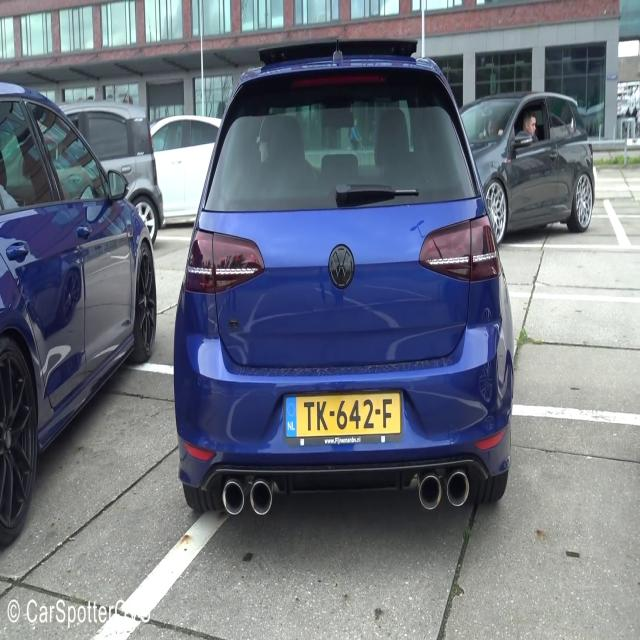number_plate: (285, 394, 406, 444)
